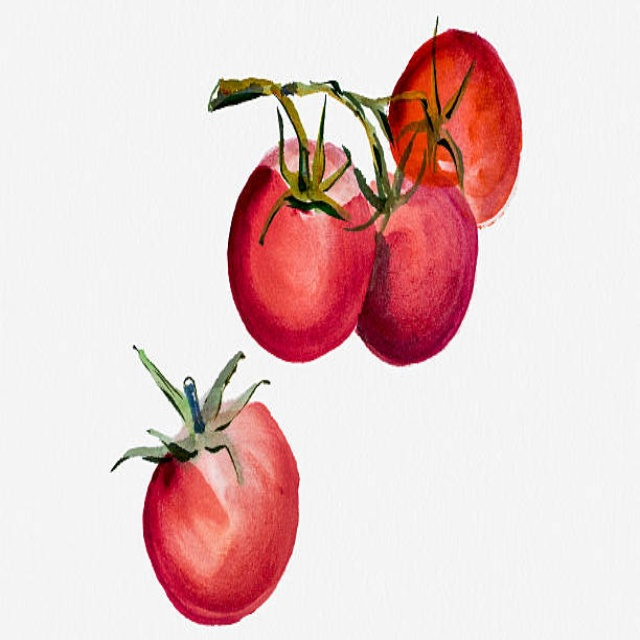tomato: (102, 383, 306, 630), (223, 135, 370, 361), (390, 34, 536, 225), (351, 172, 476, 370)
